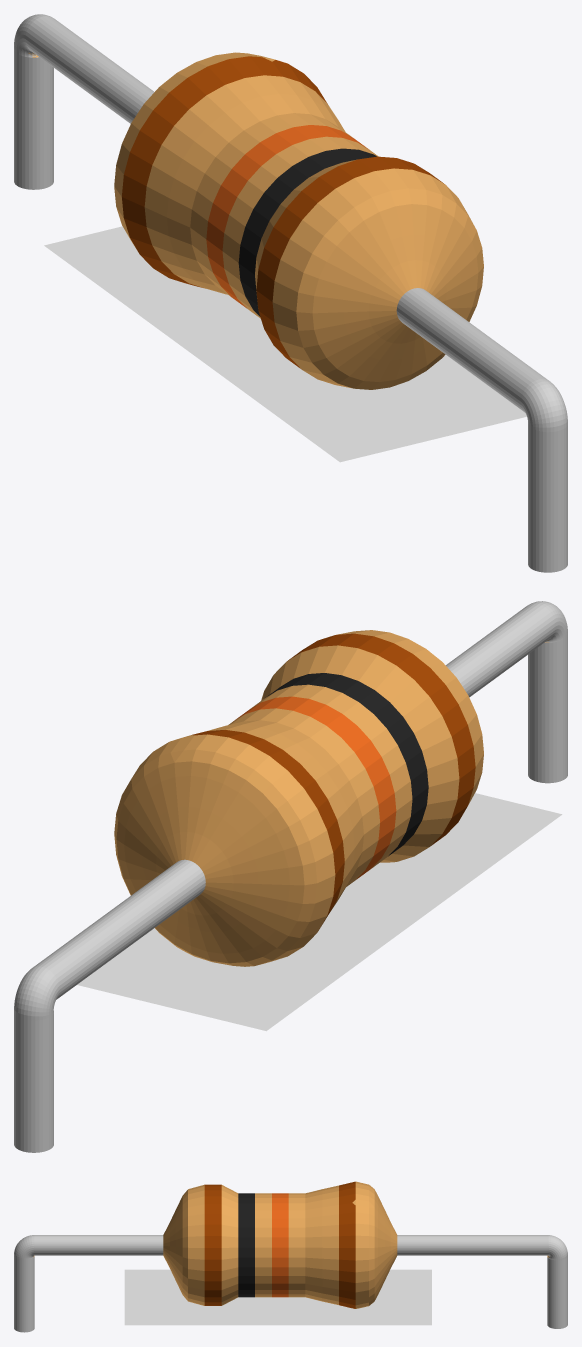
The model's file is R3_tan_3.gltf.
The picture shows the model from 3 angles, top to bottom: view 1: azimuth 30°, elevation 25°; view 2: azimuth 150°, elevation 25°; view 3: azimuth 270°, elevation 25°; orthographic projection. The views are drawn at different scales.
Parts seen in each view (by area): view 1: R3_tan_3, R3_tan_3_plane; view 2: R3_tan_3, R3_tan_3_plane; view 3: R3_tan_3, R3_tan_3_plane.
Part boxes in pixels (<box>): R3_tan_3: <box>14,14,567,572</box>; R3_tan_3_plane: <box>44,226,526,462</box>; R3_tan_3: <box>14,601,567,1152</box>; R3_tan_3_plane: <box>77,793,562,1031</box>; R3_tan_3: <box>14,1181,567,1332</box>; R3_tan_3_plane: <box>124,1269,431,1325</box>.
Size of the model in its own units: 0.0161 by 0.0189 by 0.0676.
